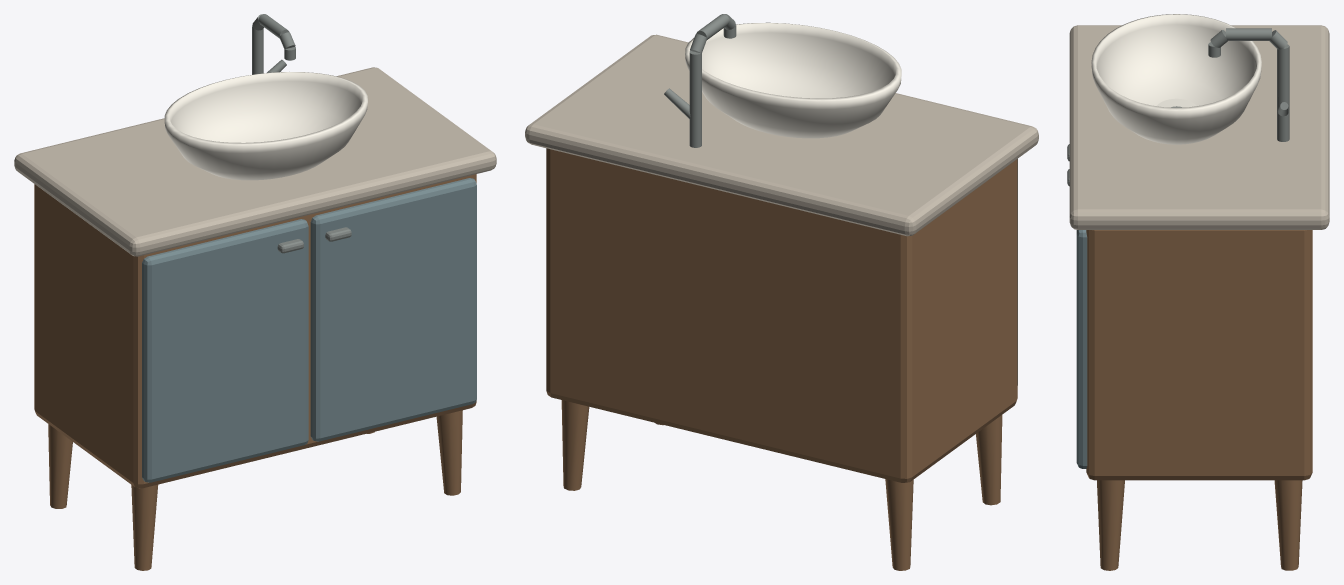
The model's file is storage-vanity.glb.
The picture shows the model from 3 angles, left to right: view 1: azimuth 30°, elevation 25°; view 2: azimuth 150°, elevation 25°; view 3: azimuth 270°, elevation 25°; orthographic projection. The views are drawn at different scales.
Parts seen in each view (by area): view 1: storage-vanity; view 2: storage-vanity; view 3: storage-vanity.
Boxes of the visible parts, box(x1,y1,x2,y2) form: storage-vanity: box(14, 14, 496, 570); storage-vanity: box(525, 14, 1038, 570); storage-vanity: box(1067, 14, 1329, 570).
Size of the model in its own units: 0.86 by 1.01 by 0.5.
